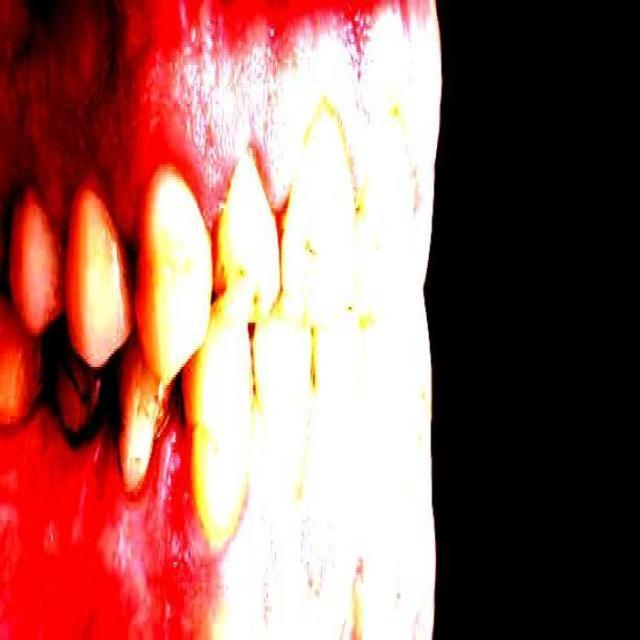CALCULUS: (204, 241, 230, 288), (187, 382, 199, 429)
